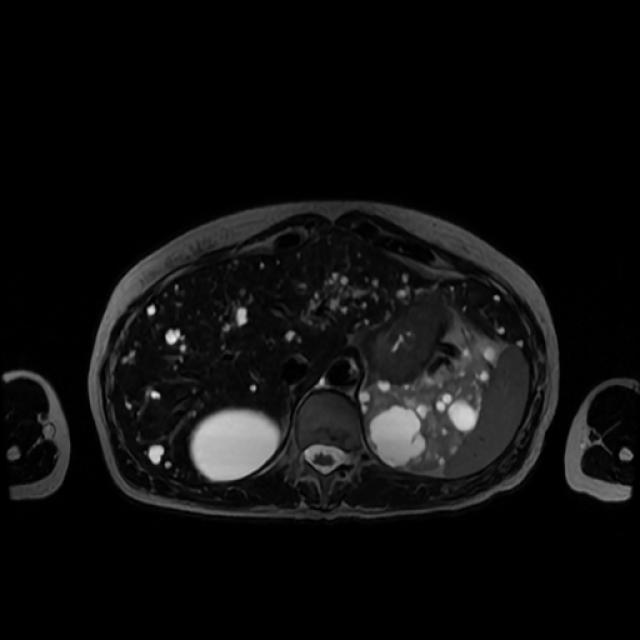sag: (191, 409, 283, 480)
sol: (362, 361, 488, 472)
